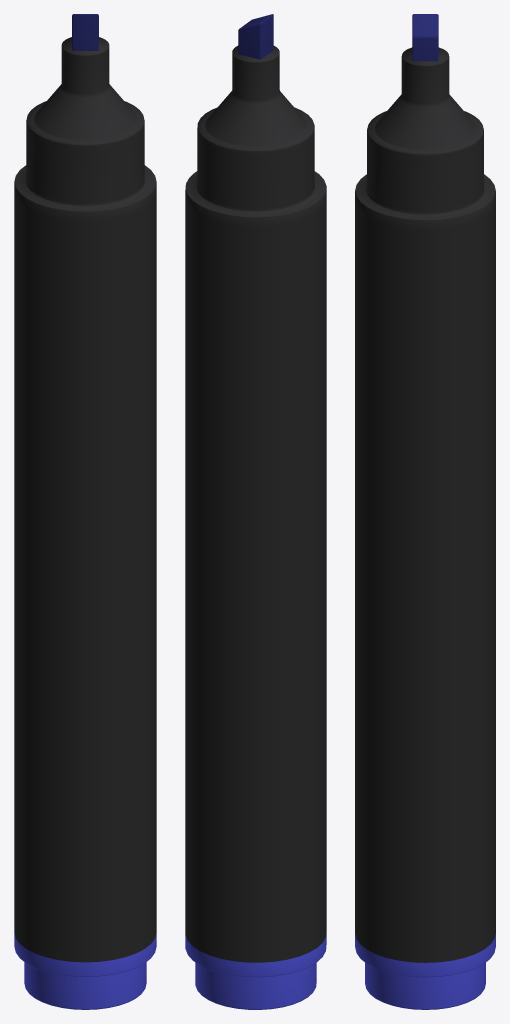
File: marker.fbx
The picture shows the model from 3 angles, left to right: view 1: azimuth 90°, elevation 25°; view 2: azimuth 150°, elevation 25°; view 3: azimuth 270°, elevation 25°; orthographic projection.
Visible parts, largest first — view 1: marker.body, marker.end, maker.tip; view 2: marker.body, marker.end, maker.tip; view 3: marker.body, marker.end, maker.tip.
Part boxes in pixels (left/top/right/bottom): marker.body: left=14, top=37, right=156, bottom=962; marker.end: left=14, top=933, right=156, bottom=1009; maker.tip: left=72, top=14, right=98, bottom=50; marker.body: left=185, top=45, right=326, bottom=962; marker.end: left=185, top=931, right=326, bottom=1009; maker.tip: left=238, top=14, right=273, bottom=59; marker.body: left=355, top=47, right=495, bottom=962; marker.end: left=355, top=933, right=495, bottom=1009; maker.tip: left=412, top=14, right=438, bottom=61.
Size of the model in its own units: 16 by 123 by 16.
